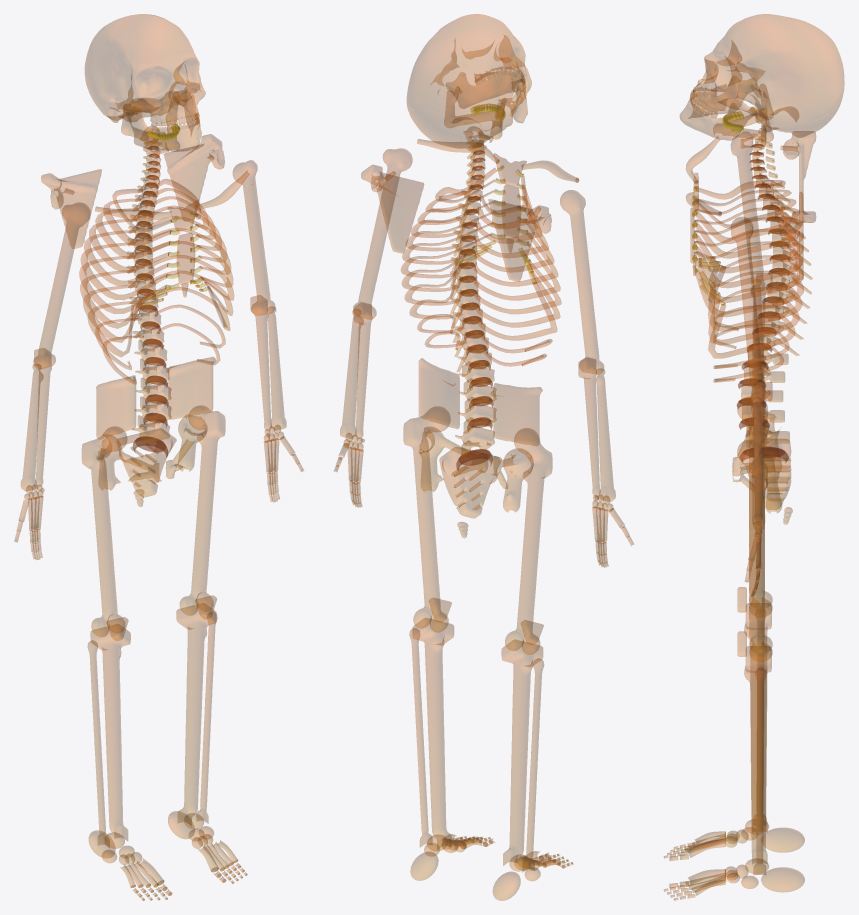
The model's file is skeleton-full-lite.glb.
3 renders of one model, left to right at view 1: azimuth 30°, elevation 25°; view 2: azimuth 150°, elevation 25°; view 3: azimuth 270°, elevation 25°, orthographic. The views are drawn at different scales.
Parts seen in each view (by area): view 1: skull_cranium, femur_R, femur_L, tibia_L, hip_bone_L, tibia_R, hip_bone_R, humerus_R, scapula_L, scapula_R, humerus_L, sacrum (+20 smaller); view 2: skull_cranium, femur_L, femur_R, hip_bone_R, tibia_L, tibia_R, hip_bone_L, sacrum, humerus_R, scapula_R, scapula_L, humerus_L (+19 smaller); view 3: skull_cranium, tibia_L, femur_L, humerus_L, tibia_R, humerus_R, fibula_L, femur_R, sacrum, ulna_L, radius_L, hip_bone_L (+30 smaller).
Part boxes in pixels (x1,y1,x2,y2): skull_cranium: [85, 14, 205, 151]; femur_R: [82, 426, 127, 636]; femur_L: [180, 405, 225, 615]; tibia_L: [176, 605, 216, 825]; hip_bone_L: [166, 357, 215, 478]; tibia_R: [90, 627, 130, 840]; hip_bone_R: [96, 375, 161, 490]; humerus_R: [33, 202, 90, 369]; scapula_L: [163, 134, 224, 220]; scapula_R: [41, 169, 101, 248]; humerus_L: [233, 160, 275, 315]; sacrum: [118, 429, 176, 497]; skull_cranium: [407, 14, 531, 148]; femur_L: [403, 407, 450, 632]; femur_R: [505, 428, 552, 654]; hip_bone_R: [490, 383, 542, 512]; tibia_L: [412, 618, 453, 849]; tibia_R: [501, 640, 542, 865]; hip_bone_L: [419, 358, 487, 491]; sacrum: [439, 447, 501, 518]; humerus_R: [560, 190, 603, 374]; scapula_R: [488, 199, 551, 281]; scapula_L: [361, 165, 423, 253]; humerus_L: [353, 148, 412, 319]; skull_cranium: [680, 14, 844, 140]; tibia_L: [744, 646, 771, 863]; femur_L: [737, 439, 772, 661]; humerus_L: [731, 217, 764, 401]; tibia_R: [744, 603, 771, 832]; humerus_R: [731, 132, 764, 291]; fibula_L: [753, 667, 766, 874]; femur_R: [737, 397, 772, 616]; sacrum: [763, 439, 790, 509]; ulna_L: [750, 382, 772, 521]; radius_L: [751, 396, 764, 529]; hip_bone_L: [732, 390, 781, 513].
Bounding box in the file's own units: 0.6221 × 1.71 × 0.3279.
